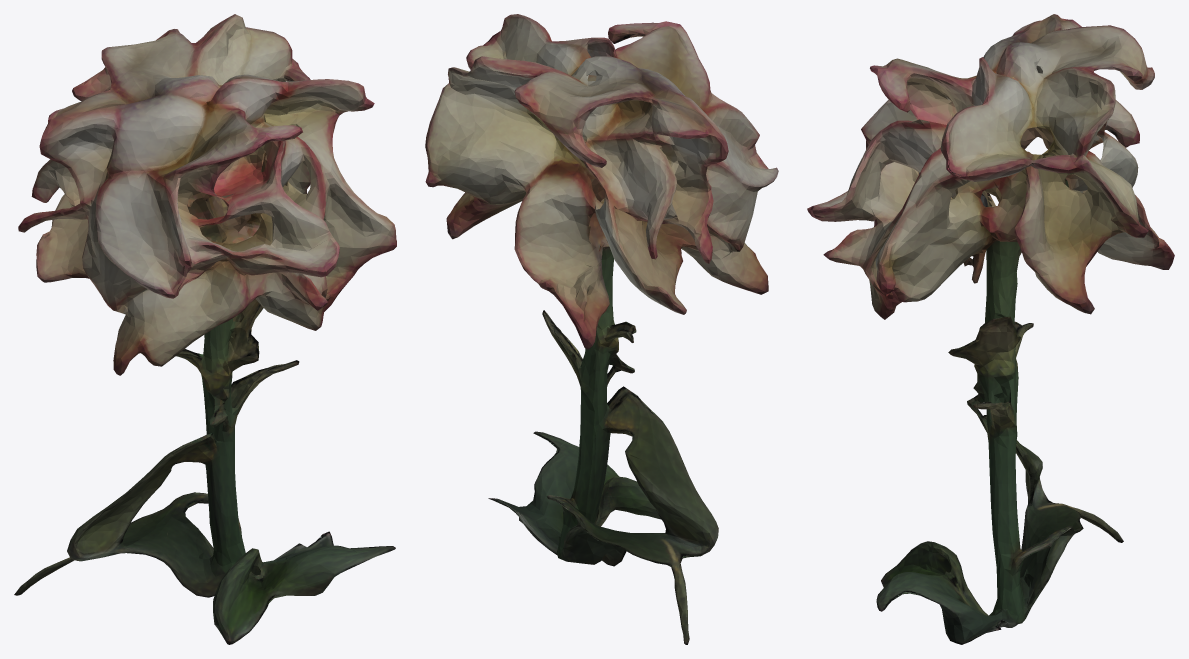
3 views of the same model, side by side, from view 1: azimuth 30°, elevation 25°; view 2: azimuth 150°, elevation 25°; view 3: azimuth 270°, elevation 25° (orthographic). The views are drawn at different scales.
Parts seen in each view (by area): view 1: world; view 2: world; view 3: world.
Boxes of the visible parts, x1,y1,x2,y2 form: world: (14, 14, 396, 644); world: (425, 14, 778, 644); world: (807, 14, 1174, 644).
Size of the model in its own units: 0.5433 by 0.9525 by 0.557.
Materials: 1 (1 with a texture image).
